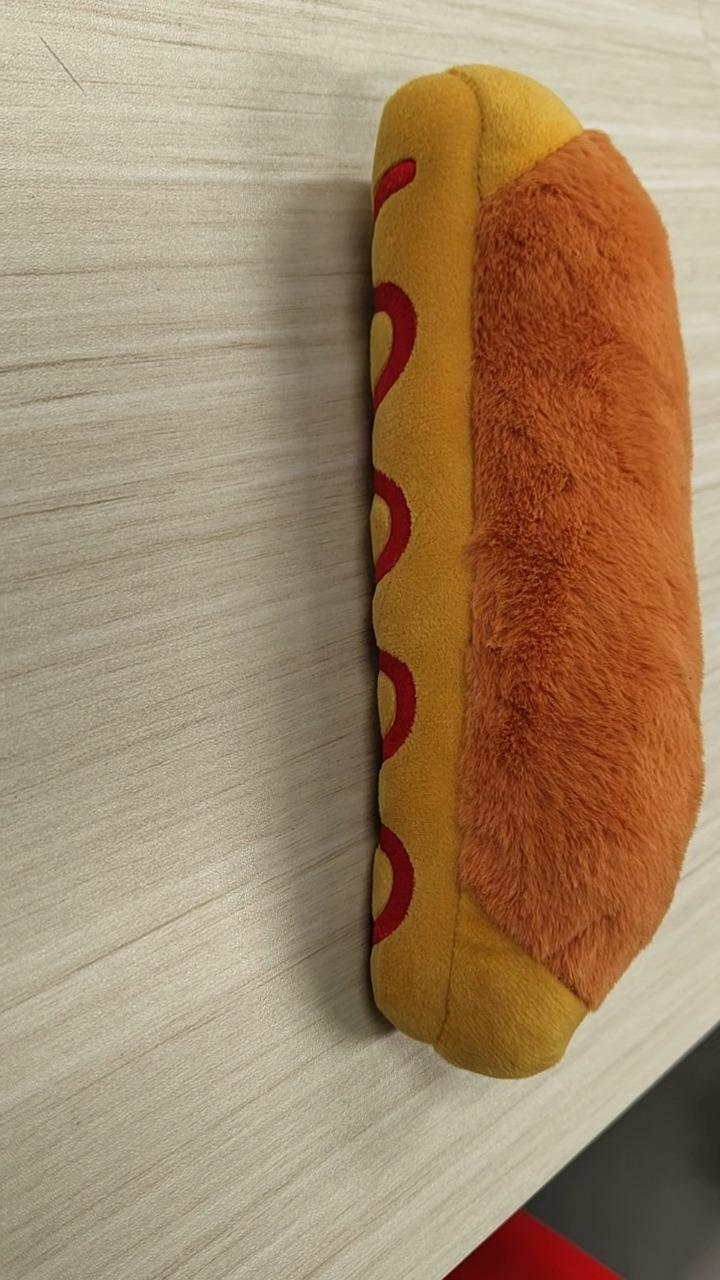hotdog: (364, 62, 705, 1080)
